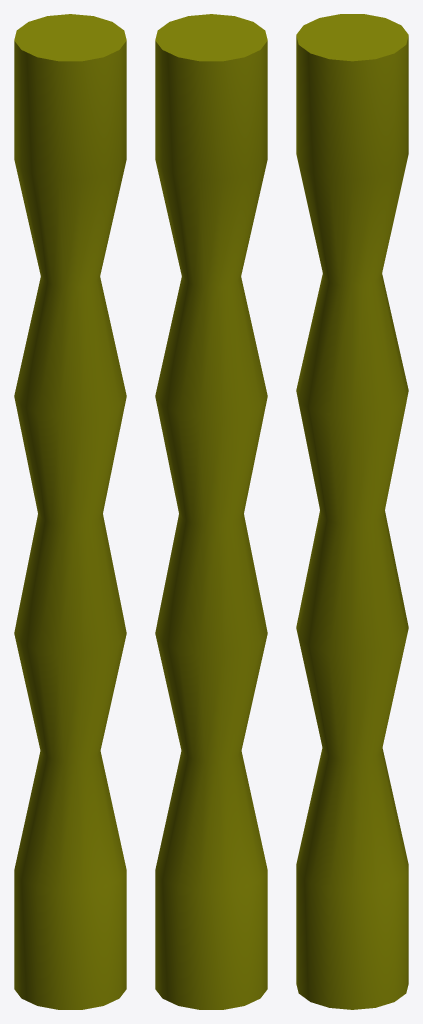
The model's file is 3D_LUIFELPAAL_001.FBX.
3 views of the same model, side by side, from view 1: azimuth 90°, elevation 25°; view 2: azimuth 210°, elevation 25°; view 3: azimuth 270°, elevation 25° (orthographic).
Visible parts, largest first — view 1: 3D_LUIFELPAAL_001; view 2: 3D_LUIFELPAAL_001; view 3: 3D_LUIFELPAAL_001.
Boxes of the visible parts, x1,y1,x2,y2 form: 3D_LUIFELPAAL_001: [14, 14, 126, 1009]; 3D_LUIFELPAAL_001: [155, 14, 267, 1009]; 3D_LUIFELPAAL_001: [296, 14, 408, 1009].
Bounding box in the file's own units: 22.5 × 210 × 22.62.
